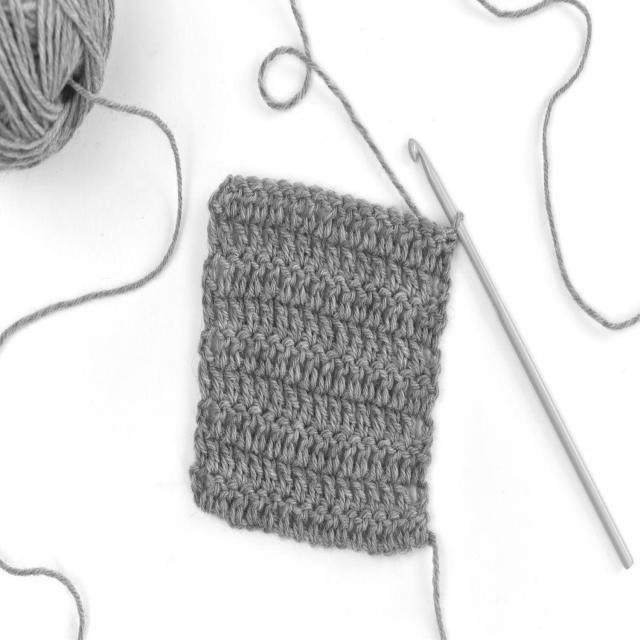dc: (394, 434, 423, 485), (409, 215, 434, 267), (311, 191, 337, 240), (332, 500, 358, 548), (377, 209, 402, 258), (378, 430, 402, 480), (395, 213, 419, 263), (330, 194, 354, 244), (362, 205, 388, 251), (252, 402, 275, 453), (362, 274, 382, 332), (350, 500, 374, 548), (420, 297, 443, 347), (283, 187, 308, 232), (240, 399, 262, 450), (346, 200, 369, 248), (268, 181, 293, 225), (293, 422, 316, 469), (239, 176, 261, 225), (254, 178, 275, 227), (366, 504, 388, 550), (282, 421, 304, 466), (209, 393, 231, 438), (333, 274, 355, 319), (322, 501, 343, 548), (291, 496, 313, 540), (277, 492, 298, 538), (230, 480, 251, 526), (263, 251, 284, 297), (424, 223, 444, 271), (379, 279, 397, 332), (405, 375, 430, 413), (437, 228, 457, 275), (408, 288, 426, 340), (232, 435, 249, 490), (266, 418, 288, 460), (275, 336, 296, 380), (303, 263, 323, 309), (412, 433, 430, 484), (392, 317, 409, 371), (225, 396, 246, 439), (303, 187, 322, 234), (376, 364, 397, 406), (351, 274, 369, 323), (225, 175, 245, 219), (206, 353, 224, 401), (202, 250, 222, 293), (377, 318, 394, 368), (347, 358, 366, 402), (334, 354, 351, 403), (297, 373, 313, 425), (304, 293, 320, 345), (341, 435, 361, 476), (318, 300, 334, 351), (283, 370, 299, 420), (231, 256, 251, 296), (353, 437, 372, 479), (410, 498, 427, 544), (228, 289, 245, 335), (326, 434, 345, 475), (392, 369, 411, 410), (383, 507, 400, 552), (224, 355, 239, 406), (304, 344, 321, 389), (261, 494, 282, 530), (216, 481, 237, 517), (218, 211, 234, 258), (341, 387, 356, 437), (202, 477, 224, 511), (239, 330, 256, 374), (362, 317, 379, 361), (244, 290, 261, 334), (410, 322, 424, 375), (256, 335, 275, 374), (273, 461, 293, 498), (346, 313, 362, 359), (289, 295, 305, 341), (320, 268, 336, 314), (274, 288, 288, 340), (310, 435, 329, 473), (393, 475, 411, 515), (364, 362, 382, 402), (248, 255, 266, 295), (235, 448, 252, 490), (254, 363, 269, 410), (398, 509, 416, 548), (258, 283, 271, 337), (247, 493, 268, 526), (333, 308, 348, 354), (370, 398, 386, 441), (320, 350, 336, 393), (269, 367, 283, 416), (291, 466, 309, 504), (304, 469, 323, 504), (371, 442, 388, 481), (289, 341, 304, 385), (239, 360, 253, 407), (280, 223, 296, 264), (208, 199, 221, 249), (396, 286, 411, 329), (356, 241, 371, 284), (280, 256, 294, 302), (310, 503, 326, 543), (386, 254, 402, 294), (327, 384, 340, 433), (357, 394, 371, 439), (386, 402, 401, 444), (402, 405, 416, 450), (214, 288, 229, 330), (220, 253, 235, 295), (294, 254, 306, 306), (297, 228, 313, 267), (314, 384, 327, 430), (380, 472, 394, 514), (429, 330, 440, 383), (263, 218, 277, 259), (218, 438, 231, 482), (363, 475, 379, 510), (340, 241, 354, 281), (194, 421, 206, 467), (251, 215, 264, 257), (261, 456, 276, 492), (326, 240, 341, 276), (235, 215, 248, 256), (212, 328, 226, 366), (349, 472, 365, 505), (205, 435, 218, 475), (418, 265, 431, 305), (336, 471, 351, 505), (250, 452, 263, 491), (225, 330, 239, 366), (403, 258, 416, 296), (311, 230, 323, 269), (371, 254, 384, 287), (321, 474, 334, 506)
